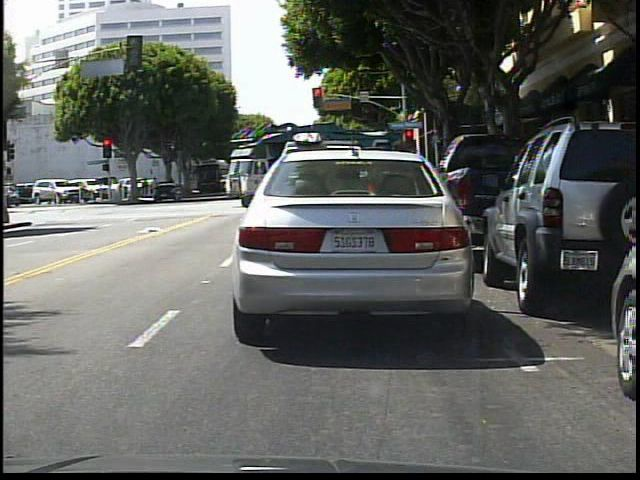person: (384, 135, 424, 271)
